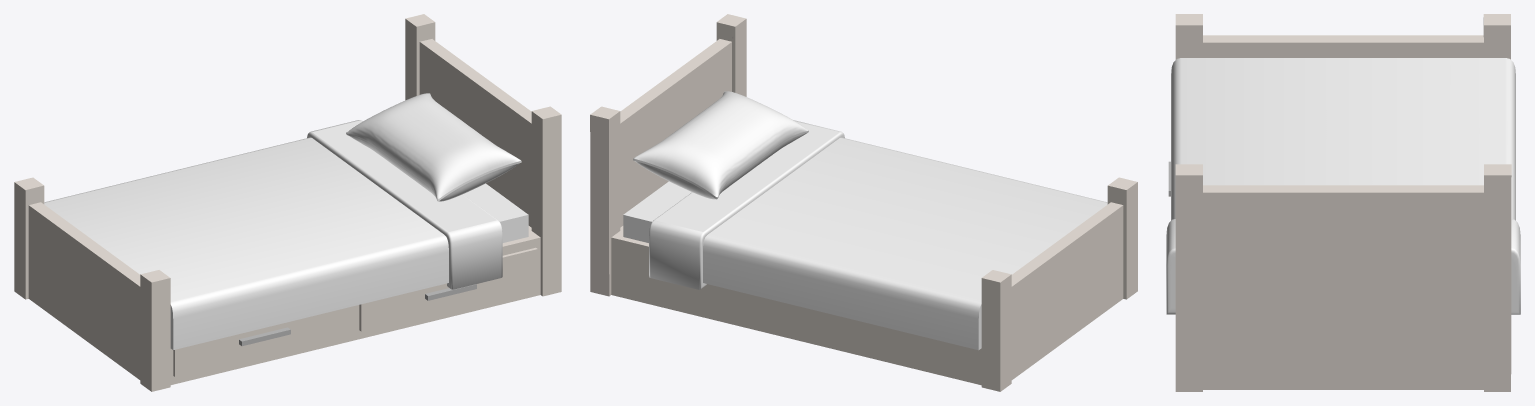
File: 3D_Prop_Bed.fbx
3 renders of one model, left to right at view 1: azimuth 30°, elevation 25°; view 2: azimuth 150°, elevation 25°; view 3: azimuth 270°, elevation 25°, orthographic. The views are drawn at different scales.
Visible parts, largest first — view 1: Bed; view 2: Bed; view 3: Bed.
Part boxes in pixels (x1,y1,x2,y2): Bed: [14, 14, 561, 391]; Bed: [590, 14, 1137, 391]; Bed: [1166, 14, 1520, 391].
Bounding box in the file's own units: 797 × 329 × 488.
